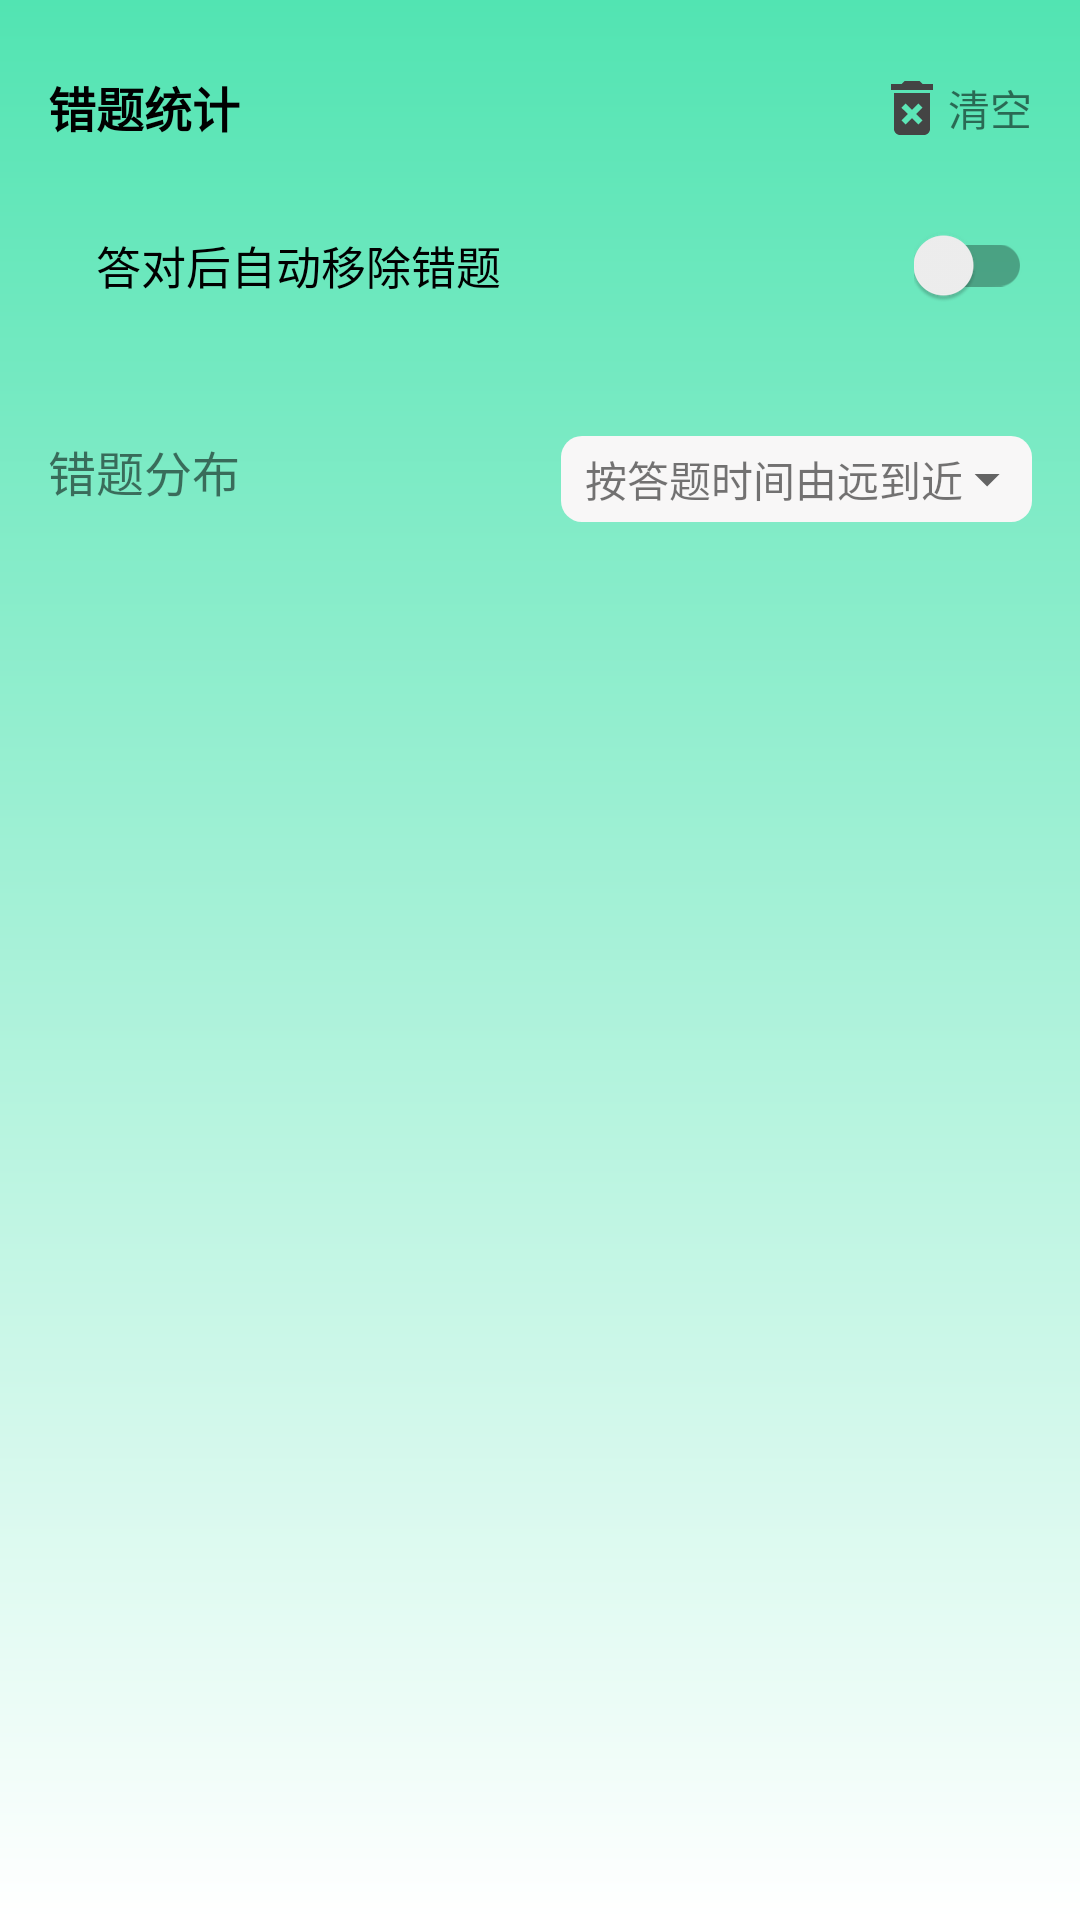

Icon bounding boxes for this 1080w x 1920h phone screenshot, format (x1, y1, x2, y2):
delete: (891, 81, 933, 135)
drop down: (975, 474, 1000, 487)
